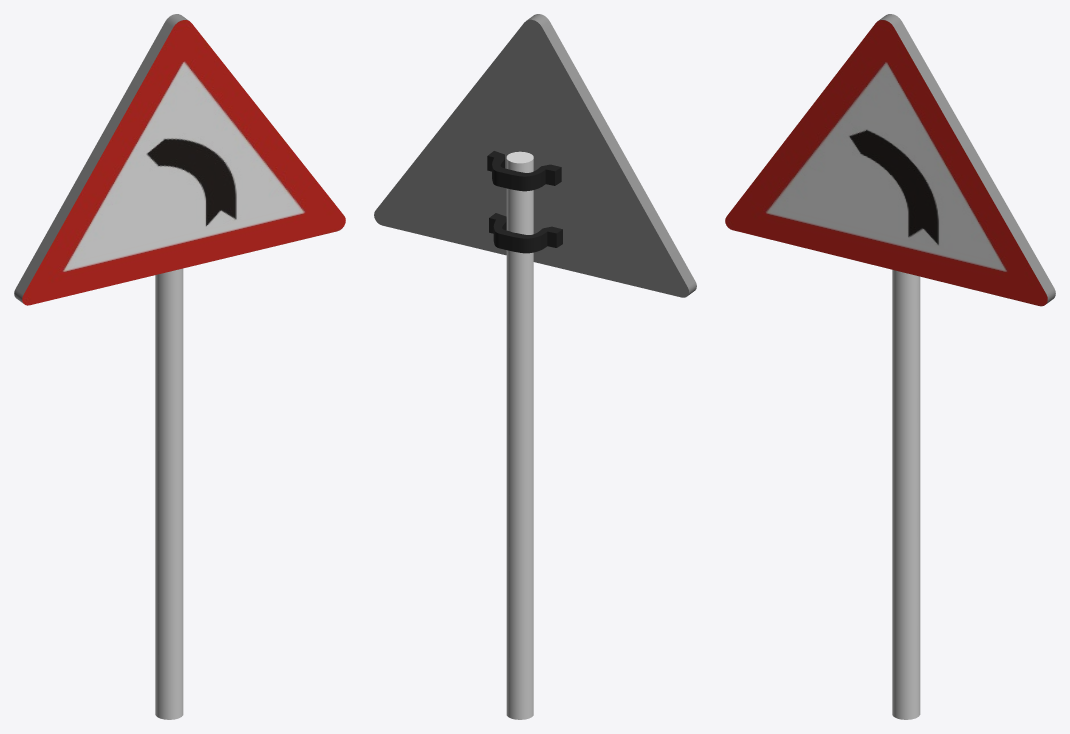
Rendered from Traffic 1.fbx.
3 renders of one model, left to right at view 1: azimuth 30°, elevation 25°; view 2: azimuth 150°, elevation 25°; view 3: azimuth 330°, elevation 25°, orthographic. The views are drawn at different scales.
Parts seen in each view (by area): view 1: Line007, sipka; view 2: Line007, sipka, s, Line006; view 3: Line007, sipka.
Part boxes in pixels (x1,y1,x2,y2): Line007: (14, 14, 345, 305); sipka: (155, 268, 183, 719); Line007: (374, 14, 696, 297); sipka: (506, 151, 533, 719); s: (487, 151, 561, 191); Line006: (489, 213, 562, 253); Line007: (725, 14, 1055, 306); sipka: (892, 270, 920, 719).
Size of the model in its own units: 34.73 by 72.53 by 5.72.
5 materials, 1 textured.
